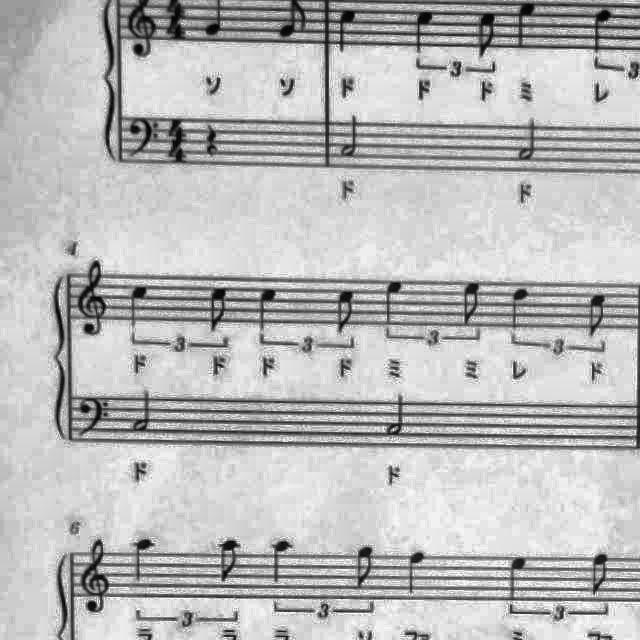Bass-clef: (74, 392, 112, 446), (125, 112, 164, 164)
Eighth-note: (210, 538, 246, 590), (202, 283, 236, 337), (472, 6, 503, 62), (583, 288, 615, 342), (331, 284, 363, 338), (586, 548, 618, 600), (456, 278, 488, 330), (273, 0, 311, 42), (349, 541, 378, 591)
Half-note: (337, 110, 368, 162), (514, 114, 544, 166), (128, 384, 158, 436), (379, 391, 409, 442)
Quarter-note: (128, 532, 162, 588), (511, 1, 545, 52), (504, 552, 536, 606), (410, 5, 442, 59), (250, 284, 282, 336), (505, 282, 537, 334), (402, 545, 432, 599), (588, 4, 618, 58), (378, 276, 409, 328), (265, 536, 297, 586), (334, 6, 362, 58), (126, 278, 154, 330)
Quarter-rest: (200, 119, 224, 161)
Treble-clef: (71, 256, 113, 340), (75, 530, 115, 618)
